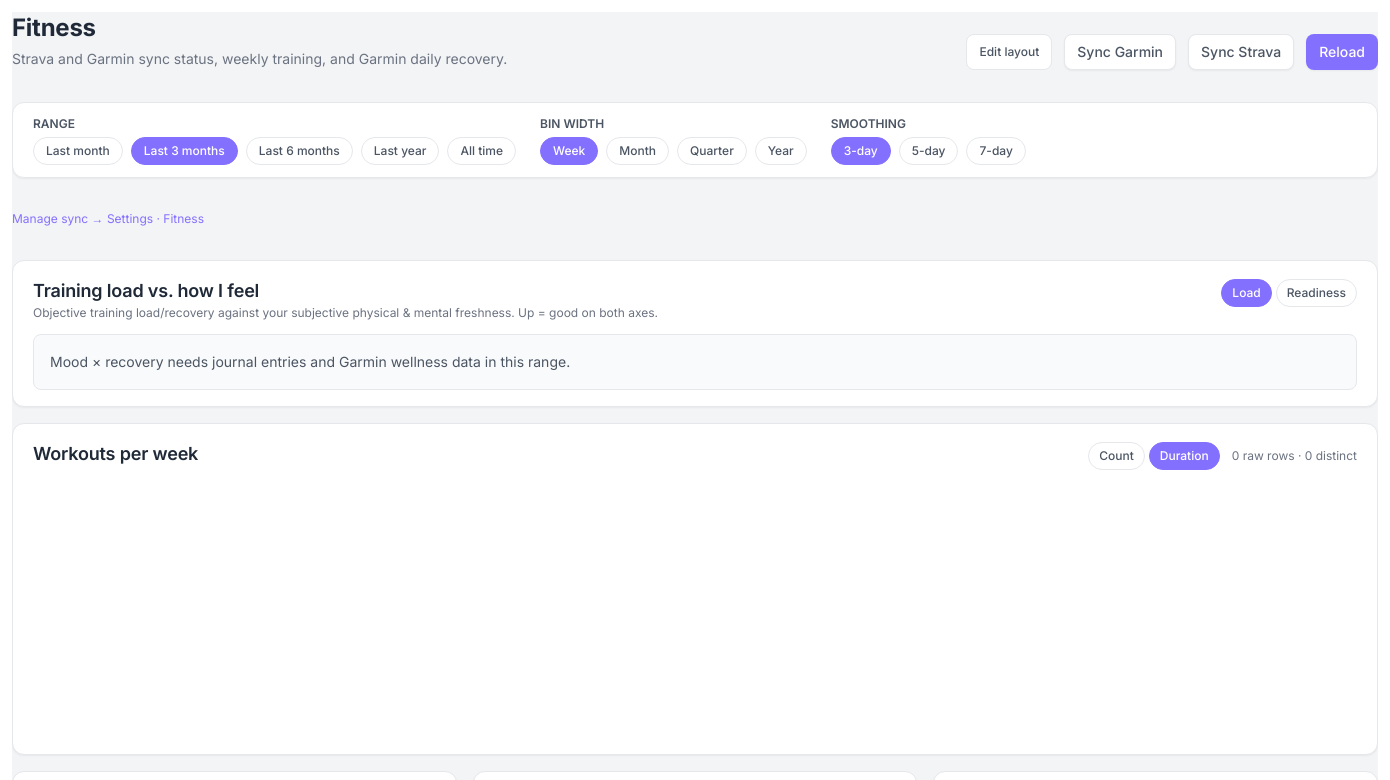
Test case: FitnessView › shows an inline error when sync submission fails
Click the button with test id "fitness-sync-strava": {"x": 1241, "y": 52} top-left (1188, 34), bottom-right (1294, 70)
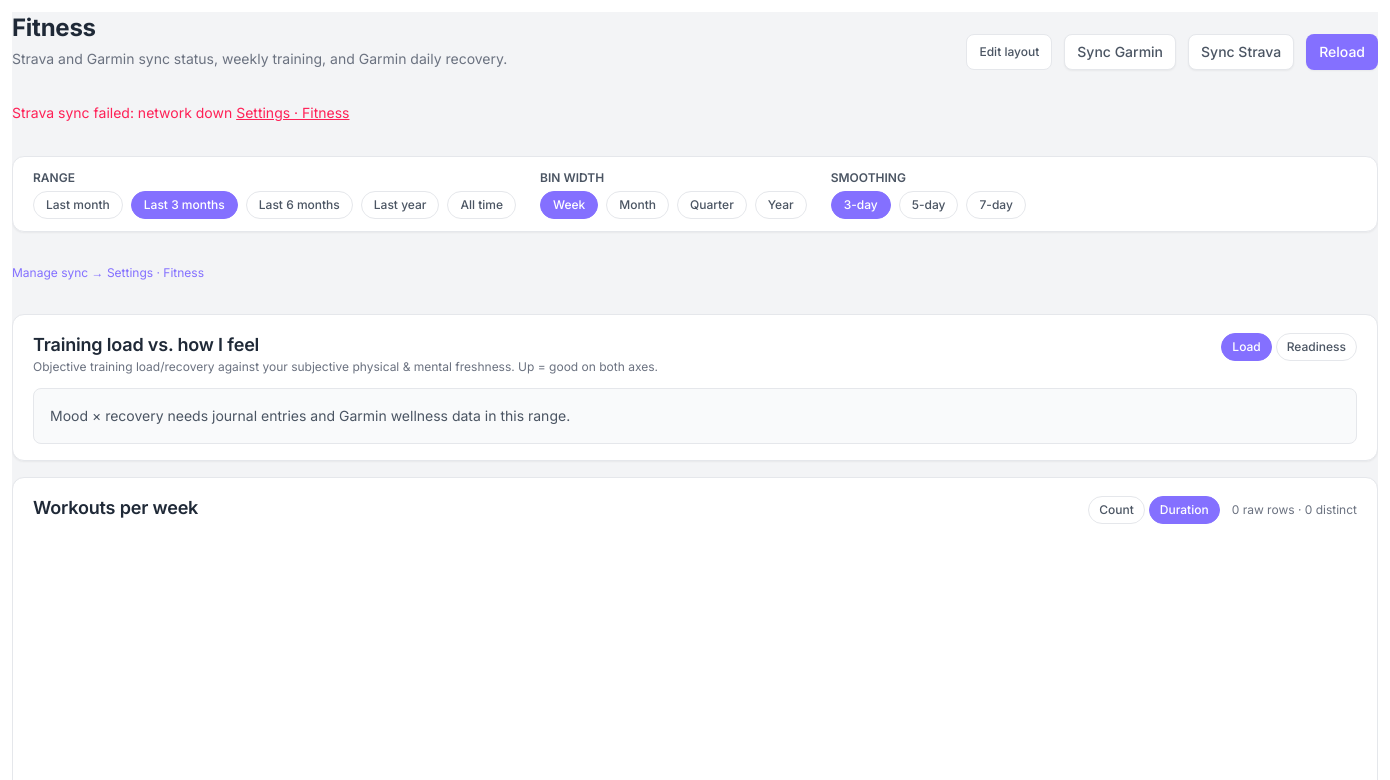
Expected: the element with test id "fitness-sync-strava-error" is shown, top-left (12, 104), bottom-right (350, 121)
Expected: the element with test id "fitness-sync-strava-error" shows "network down", top-left (12, 104), bottom-right (236, 121)
